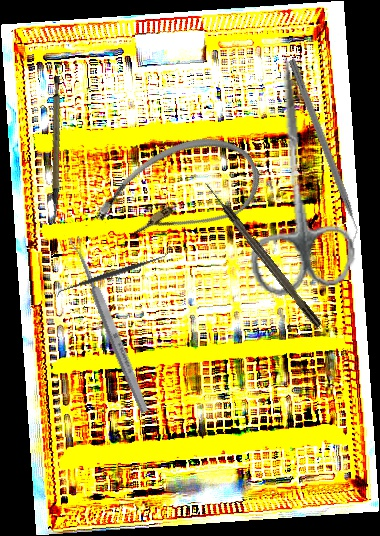Cannula: (85, 116, 272, 273)
Chopper: (278, 58, 366, 248)
Hook Surgical: (202, 179, 323, 330)
Iris Scissors: (229, 51, 360, 299)
Scalpel Handle: (29, 75, 80, 219)
Spatula Surgical: (53, 250, 170, 299)
Surgical Spoon: (68, 234, 151, 415)
